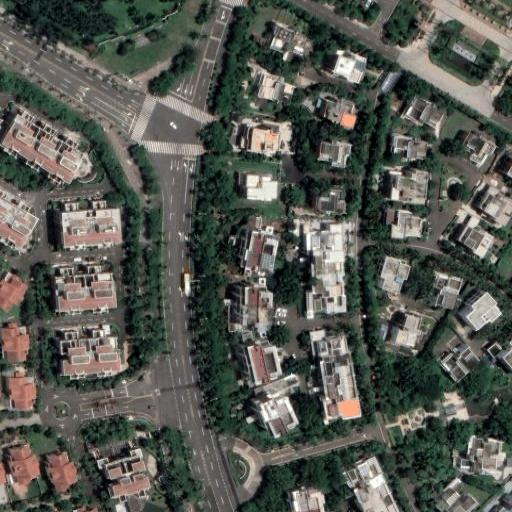building: (0, 108, 80, 181), (304, 226, 348, 317), (258, 398, 300, 440), (0, 194, 32, 246), (401, 93, 444, 129), (435, 343, 477, 379), (45, 451, 80, 494), (242, 286, 273, 334), (246, 344, 282, 385), (238, 227, 273, 269), (460, 291, 495, 330), (56, 208, 88, 249), (49, 274, 83, 312), (8, 446, 41, 485), (428, 273, 462, 310), (386, 170, 423, 204), (80, 271, 113, 309), (86, 207, 117, 247), (53, 337, 85, 375), (346, 455, 384, 487), (355, 474, 392, 506), (376, 255, 406, 294), (459, 129, 493, 163), (83, 336, 113, 373), (318, 96, 355, 125), (321, 374, 358, 403), (453, 221, 487, 252), (255, 72, 291, 101), (325, 53, 362, 81), (0, 325, 29, 360), (392, 135, 429, 162), (473, 190, 506, 220), (391, 210, 423, 239), (8, 377, 35, 411), (318, 353, 354, 378), (317, 140, 350, 165), (390, 313, 417, 343), (325, 398, 360, 420), (316, 336, 351, 358), (291, 488, 323, 512), (238, 173, 267, 199), (445, 490, 477, 512), (363, 493, 400, 512), (314, 186, 342, 211), (485, 486, 511, 511), (495, 332, 512, 370), (245, 126, 273, 149), (379, 67, 402, 93), (474, 438, 502, 458), (309, 330, 326, 359), (112, 477, 135, 498), (272, 23, 295, 43), (474, 457, 504, 471), (130, 474, 151, 493), (482, 340, 498, 357), (444, 490, 460, 507), (501, 155, 512, 178), (279, 121, 292, 140), (460, 456, 474, 470), (108, 467, 123, 480), (132, 461, 146, 474), (122, 455, 142, 464), (104, 460, 124, 469), (0, 461, 7, 485), (453, 449, 461, 470), (97, 457, 110, 469), (468, 435, 475, 457), (63, 202, 76, 210), (84, 264, 95, 273), (131, 448, 142, 457), (94, 200, 105, 208), (89, 329, 100, 337), (56, 268, 66, 276), (60, 333, 73, 338)
